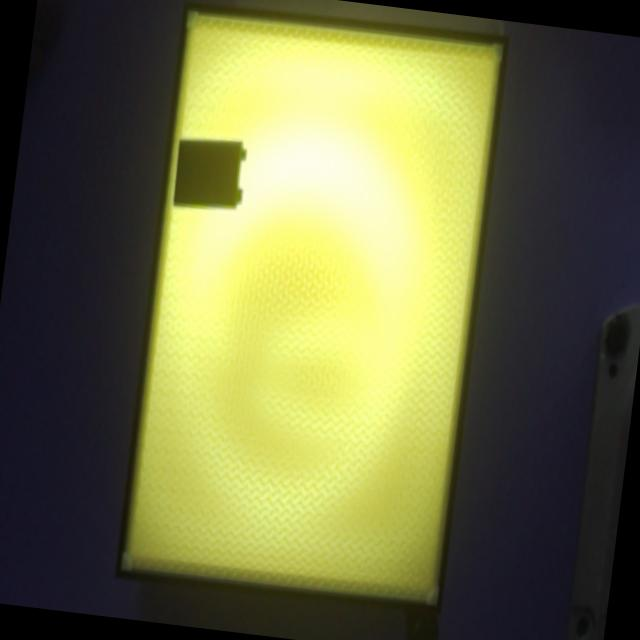bateria: (172, 138, 247, 211)
mesa: (115, 2, 508, 615)
